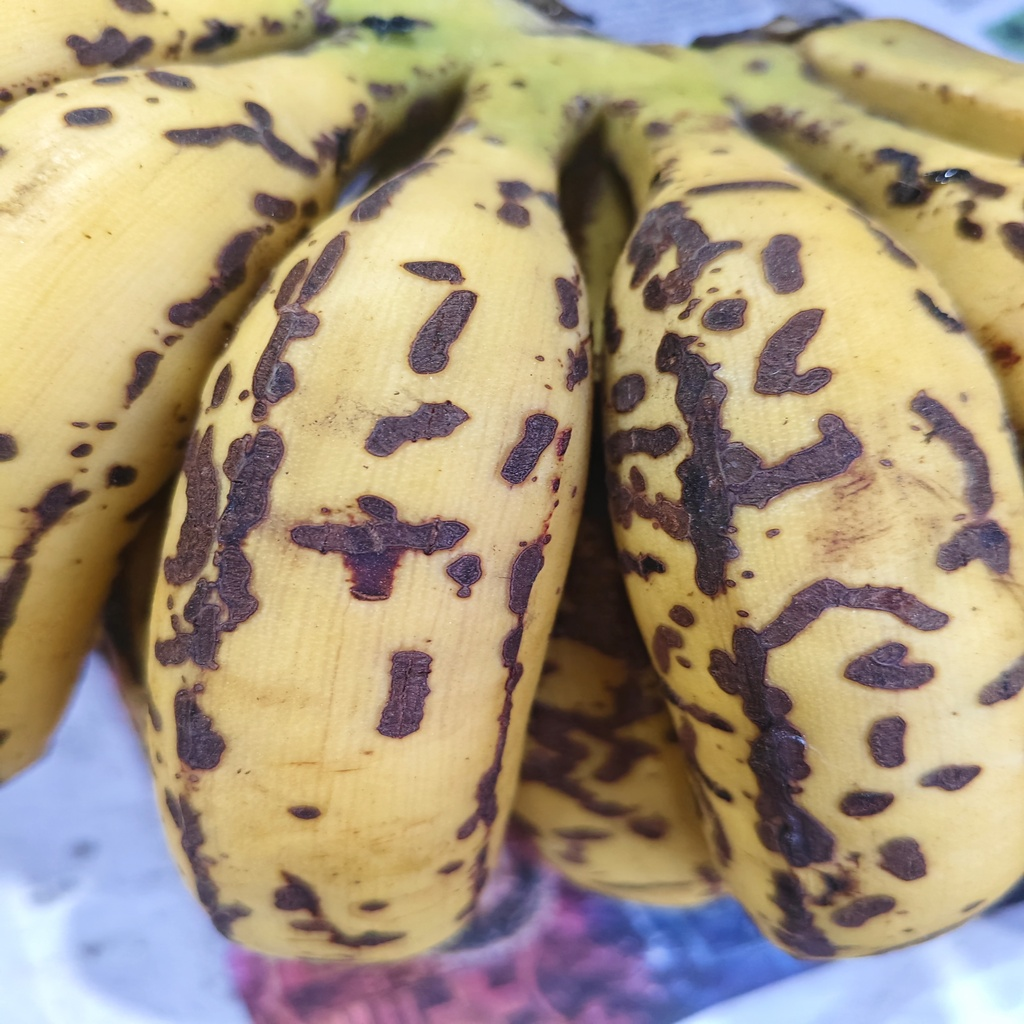unhealthy: (142, 167, 590, 961), (605, 168, 1024, 959)
